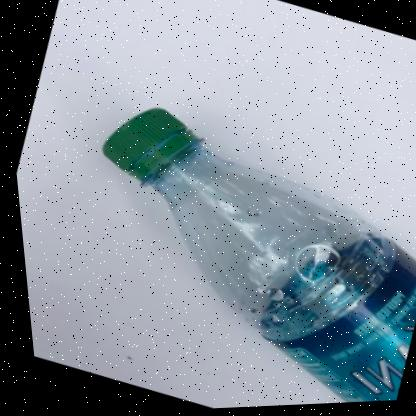Plastic: (100, 109, 416, 405)
